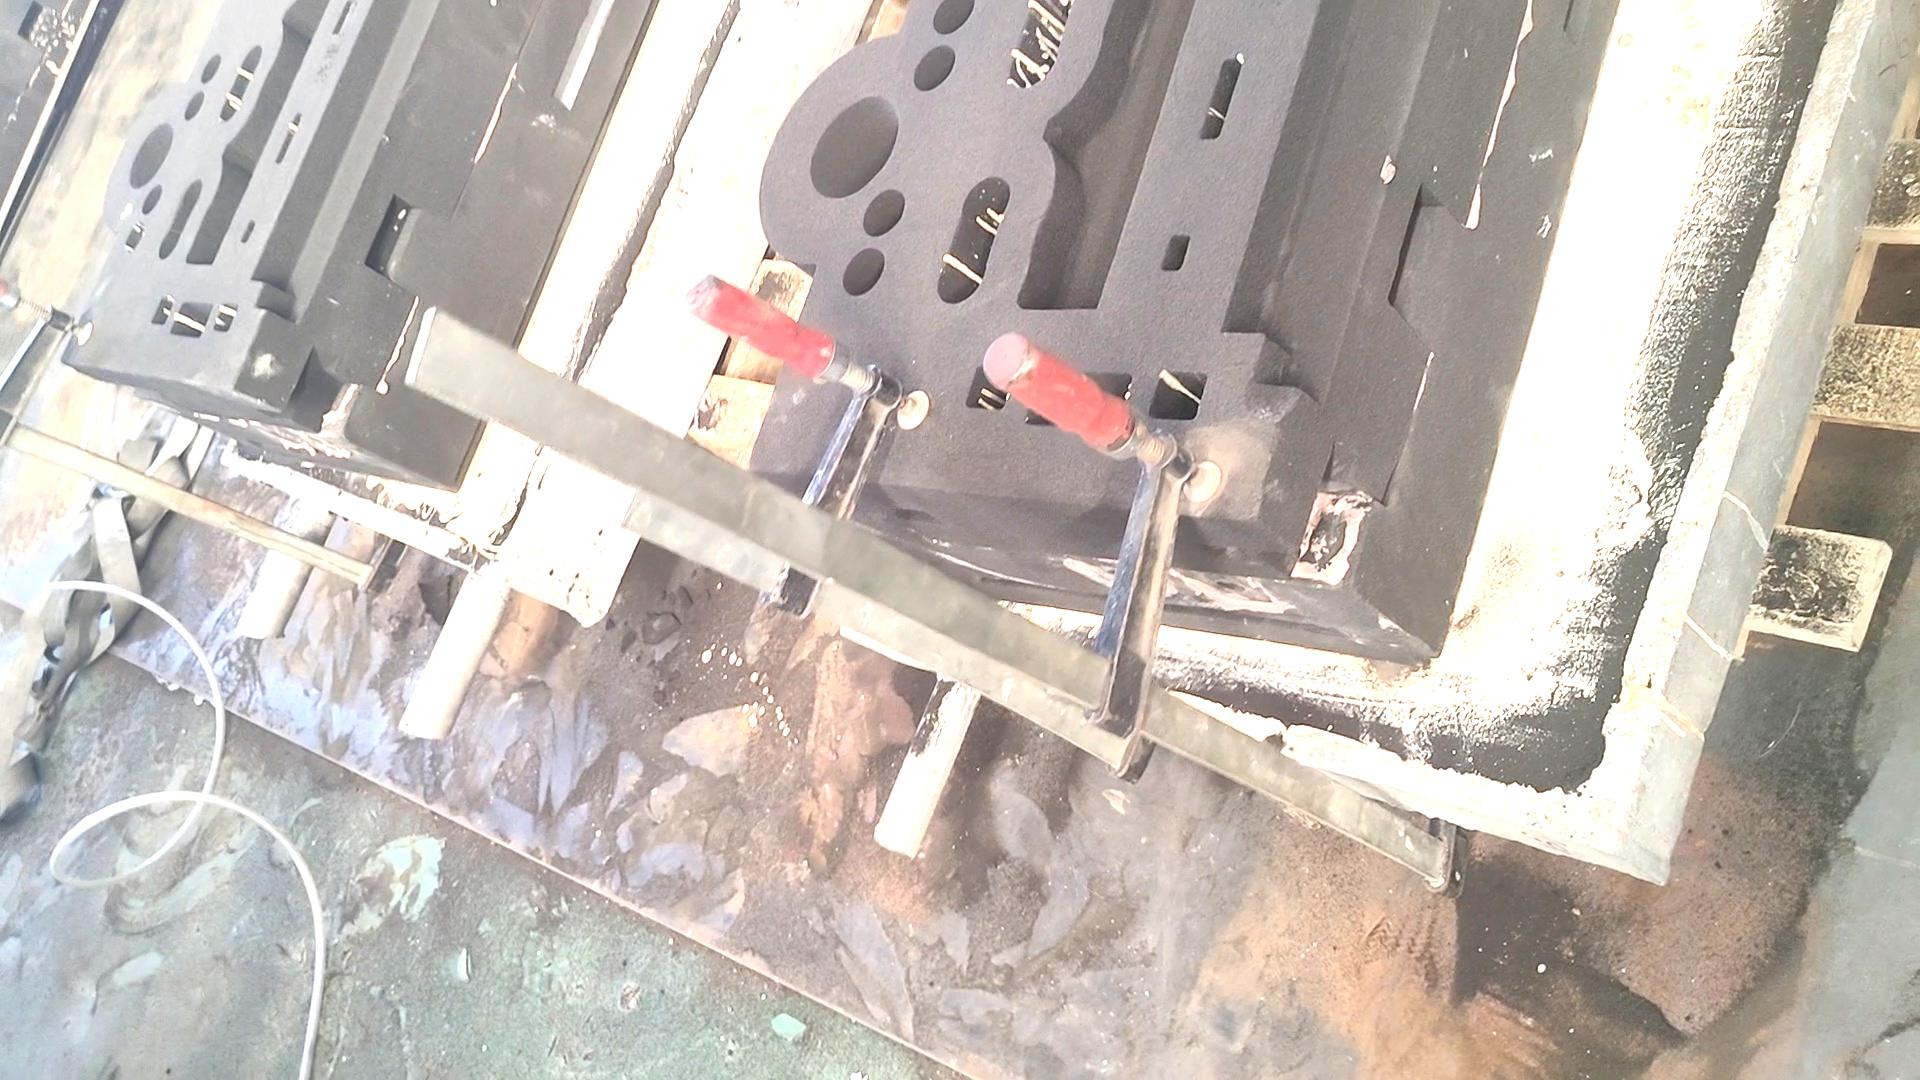pouring hole: (808, 96, 899, 200), (129, 123, 174, 191)
